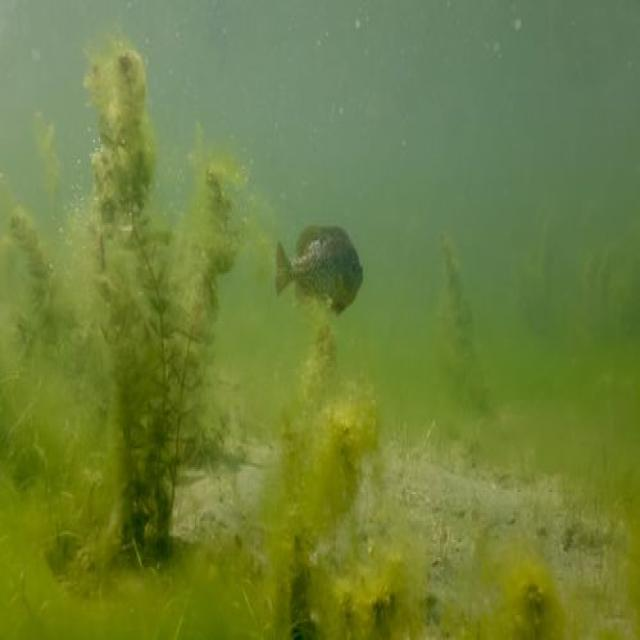Gunes Levregi: (274, 224, 368, 316)
